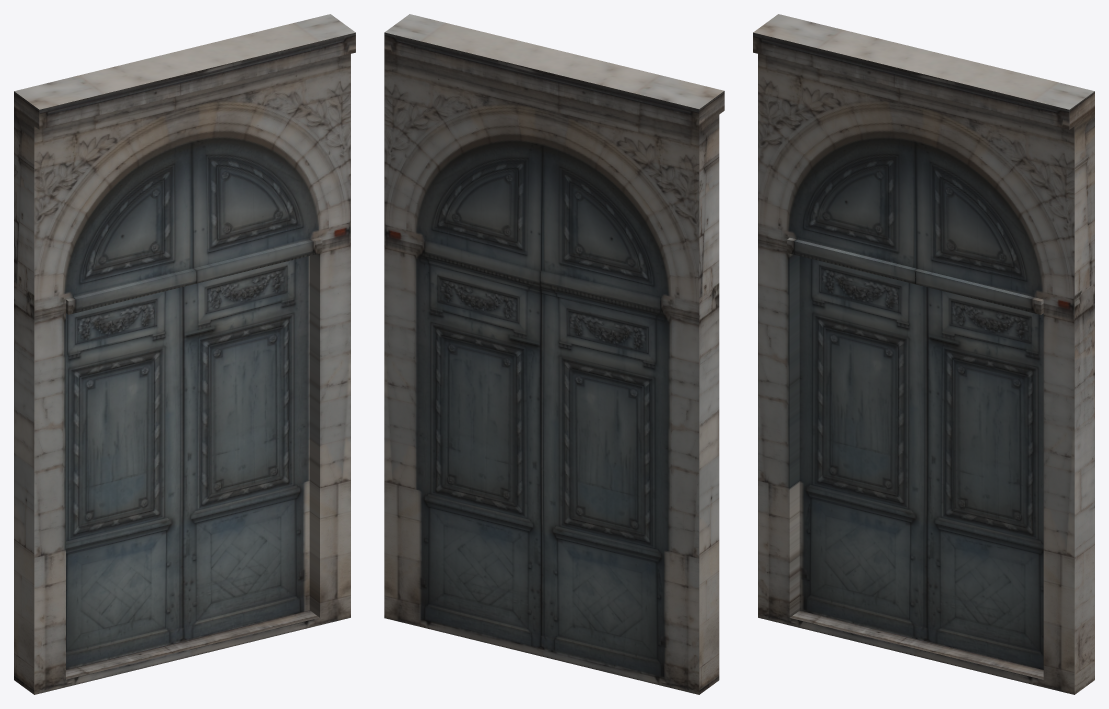
The model's file is Door.FBX.
3 renders of one model, left to right at view 1: azimuth 30°, elevation 25°; view 2: azimuth 150°, elevation 25°; view 3: azimuth 330°, elevation 25°, orthographic.
Visible parts, largest first — view 1: Door; view 2: Door; view 3: Door.
Boxes of the visible parts, x1,y1,x2,y2 form: Door: (14, 14, 355, 694); Door: (384, 14, 724, 694); Door: (753, 14, 1094, 694).
Size of the model in its own units: 576 by 1024 by 80.
